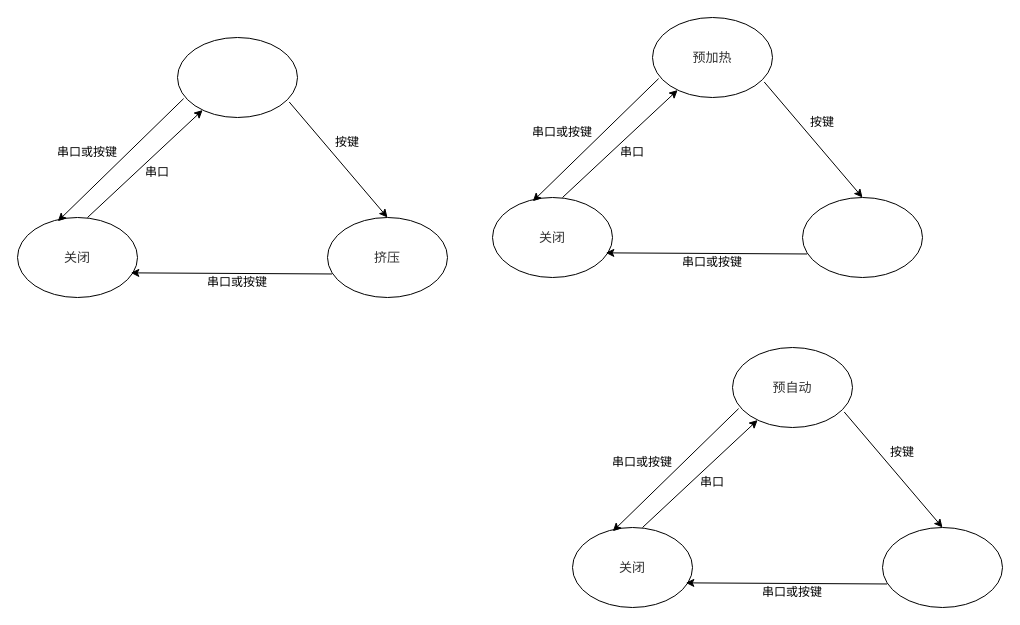
This 1020x625 diagram has some shape labels left out. The centre of each missing label's shape, as x and y in pixels:
"加热" goes at (x=862, y=237).
"自动" goes at (x=942, y=567).
"预挤压" goes at (x=237, y=77).
